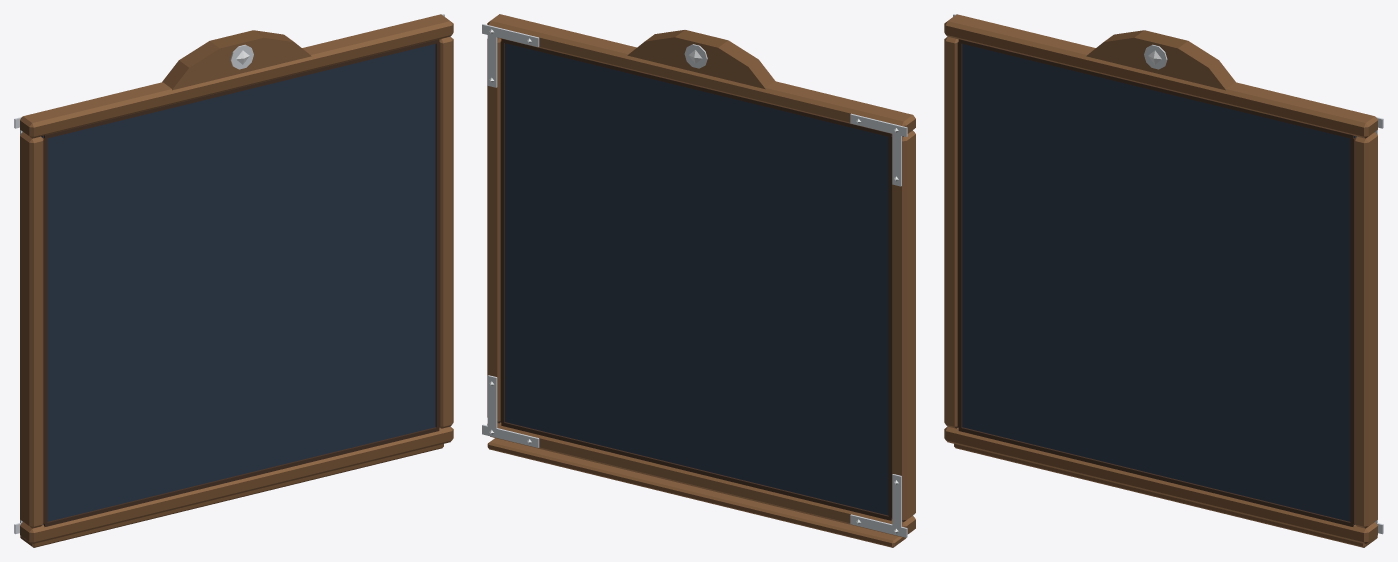
Rendered from SignNoticeBoard.obj.
3 views of the same model, side by side, from view 1: azimuth 30°, elevation 25°; view 2: azimuth 150°, elevation 25°; view 3: azimuth 330°, elevation 25° (orthographic).
Size of the model in its own units: 9.8 by 9.98 by 0.75.
